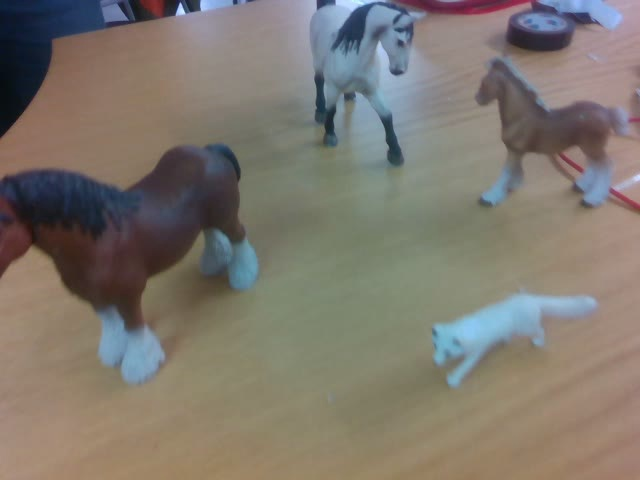toy: (1, 141, 259, 383), (473, 54, 634, 210), (307, 1, 424, 166), (429, 292, 597, 386)
